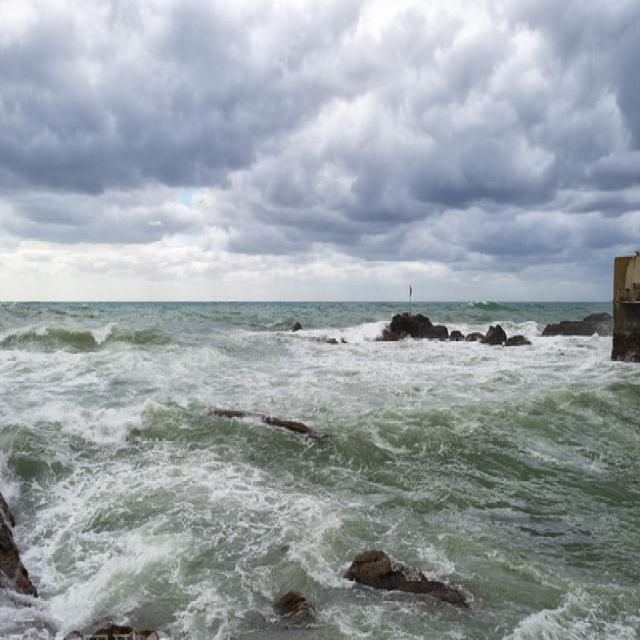reef: (324, 524, 475, 618), (0, 458, 51, 640), (372, 296, 534, 351)
